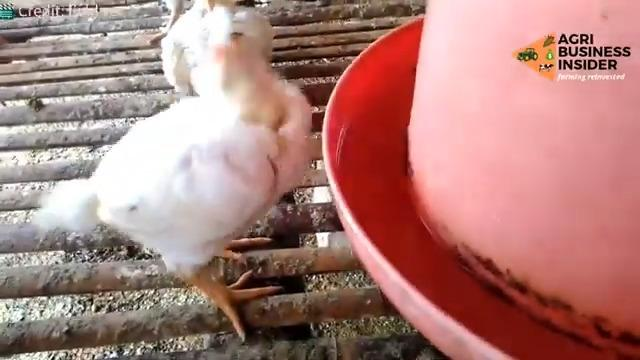AbNormal: (149, 17, 312, 279)
